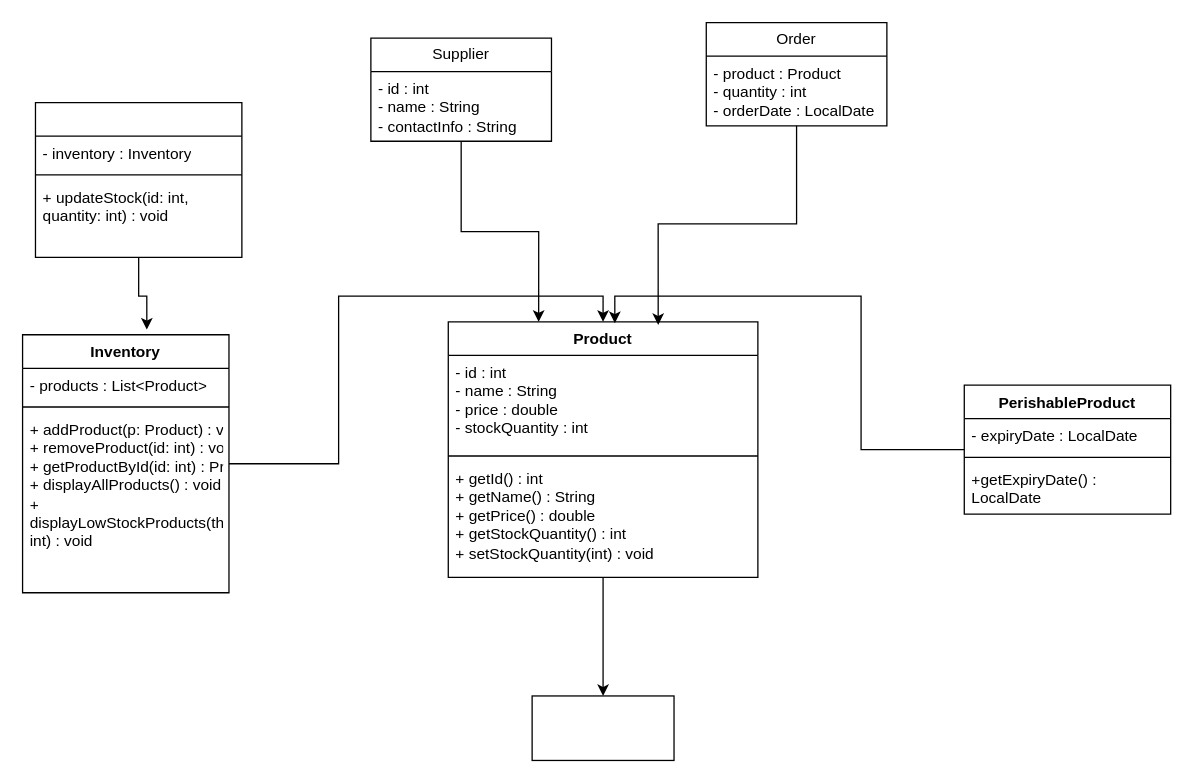
Image size: 1193x783. Some labels were removed from this diagram. Here are the shapes that lost their labels. From the top down, the box of each, then its label:
(34, 101, 242, 257): StockManager
(531, 695, 674, 760): «interface» Storable
